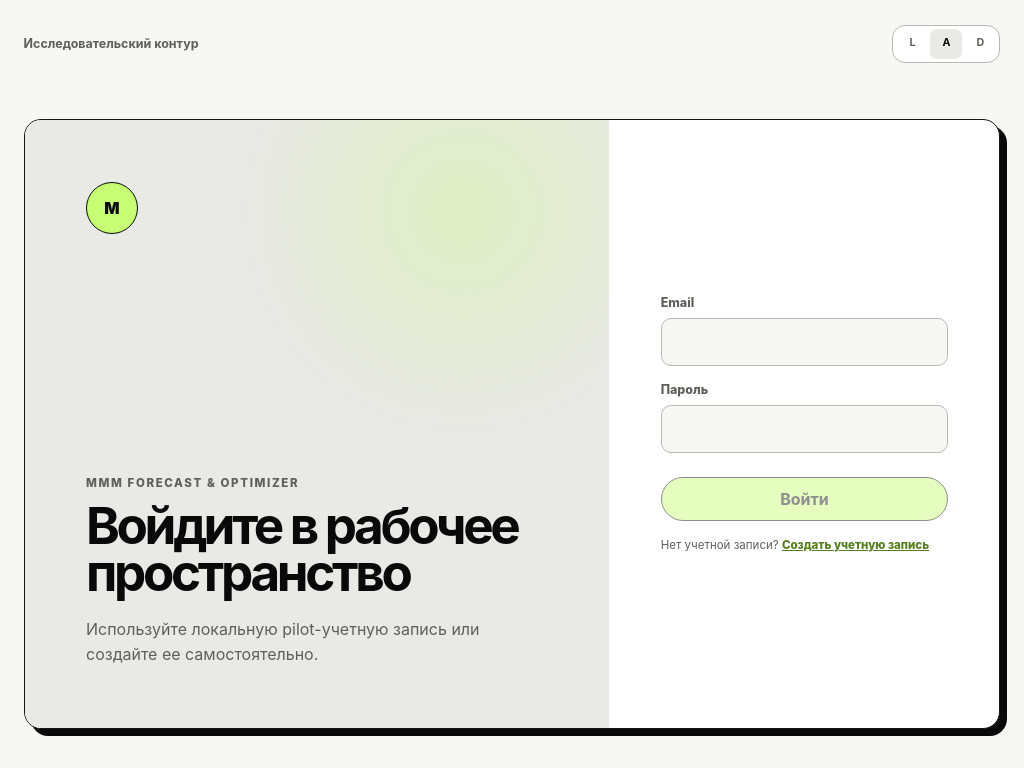
Scenario: LoginView › omits a blank display name and shows the non-confirming duplicate copy
Click the button "Создать учетную запись": (856, 545) x1=782 y1=537 x2=929 y2=554
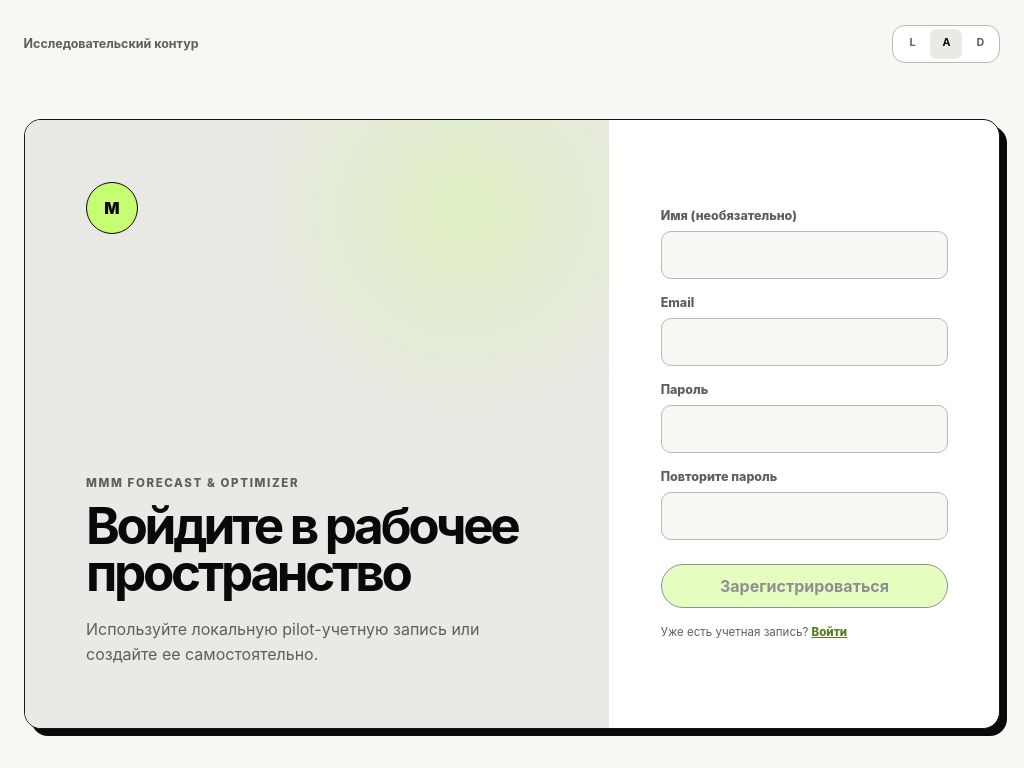
In the field labelled "Email": (804, 342) x1=661 y1=318 x2=948 y2=366, type "existing@example.org"
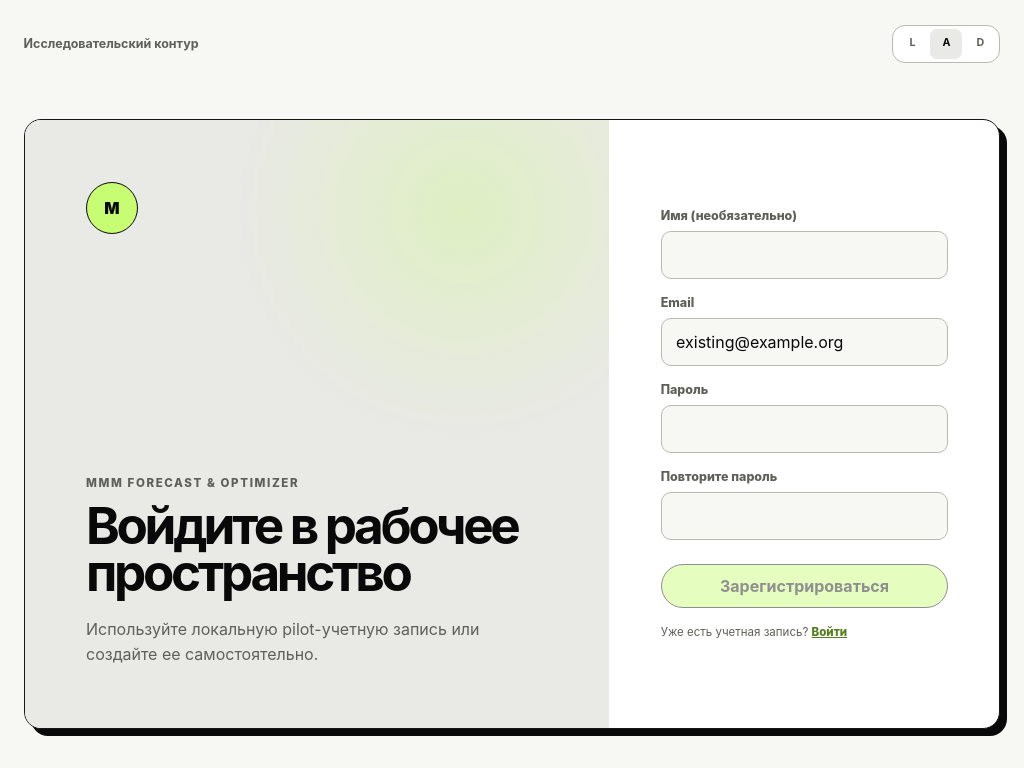
In the password field labelled "Пароль": (804, 429) x1=661 y1=405 x2=948 y2=453, type "Existing-password-2026"
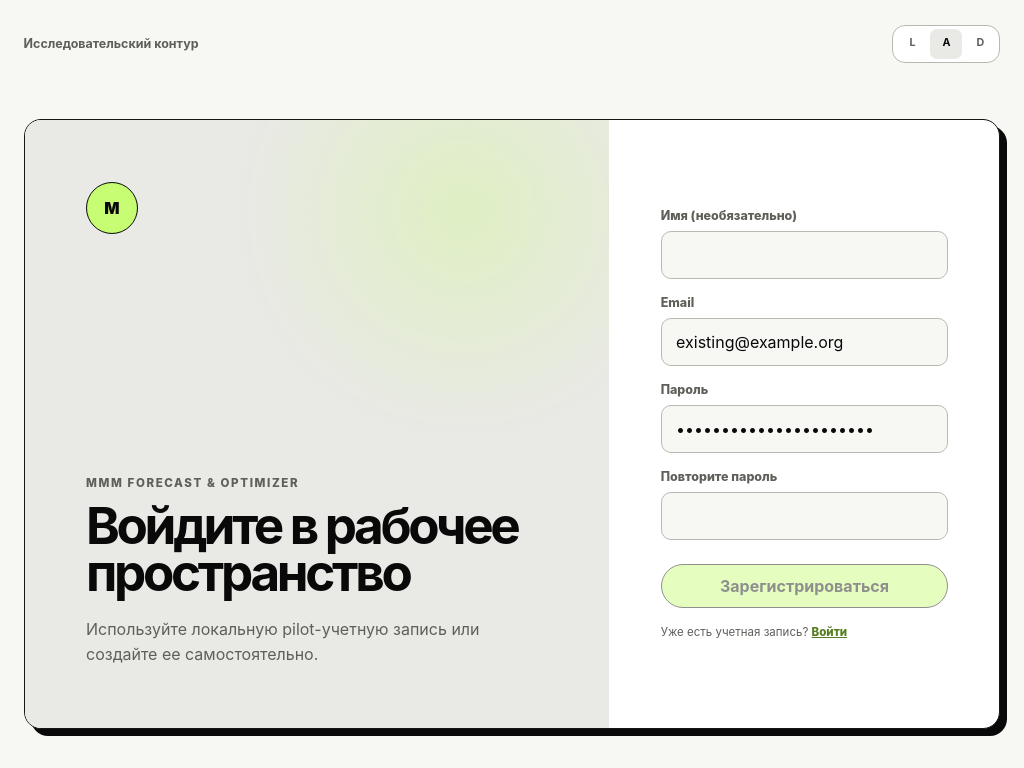
In the password field labelled "Повторите пароль": (804, 516) x1=661 y1=492 x2=948 y2=540, type "Existing-password-2026"
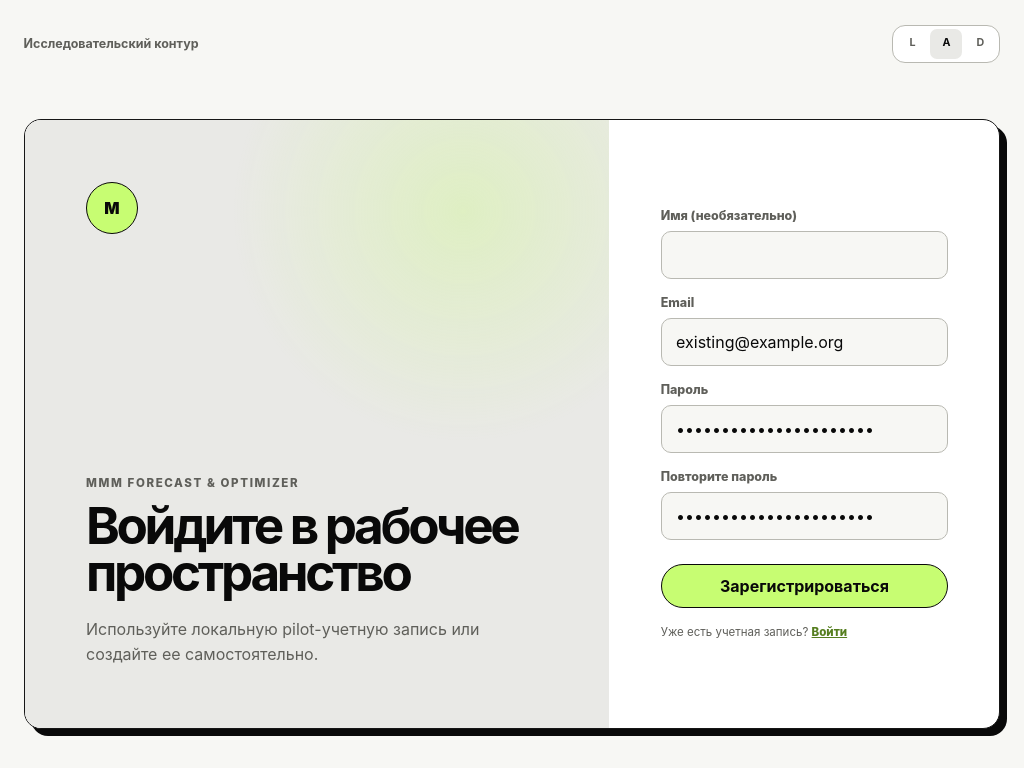
Submit the form "Зарегистрироваться", box x1=661 y1=208 x2=948 y2=641
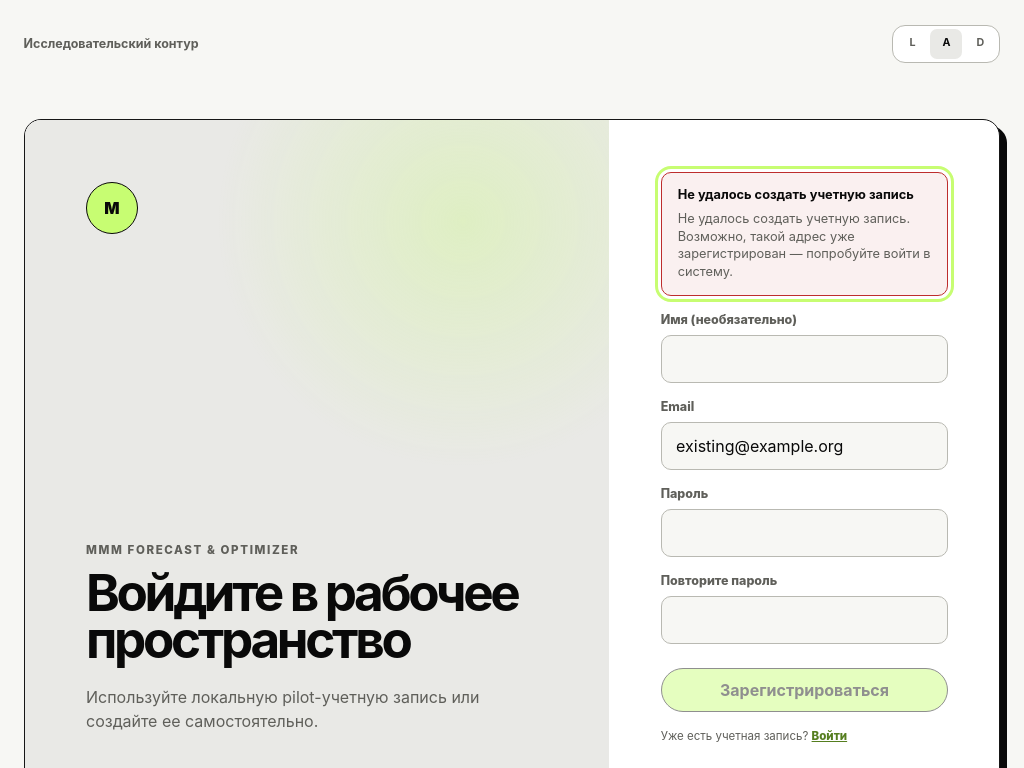
Check: the message does not show "existing@example.org", box x1=661 y1=172 x2=948 y2=296
Check: the message shows "Возможно, такой адрес уже зарегистрирован", box x1=678 y1=211 x2=931 y2=279
Check: the password field labelled "Пароль" is empty, box x1=661 y1=509 x2=948 y2=557
